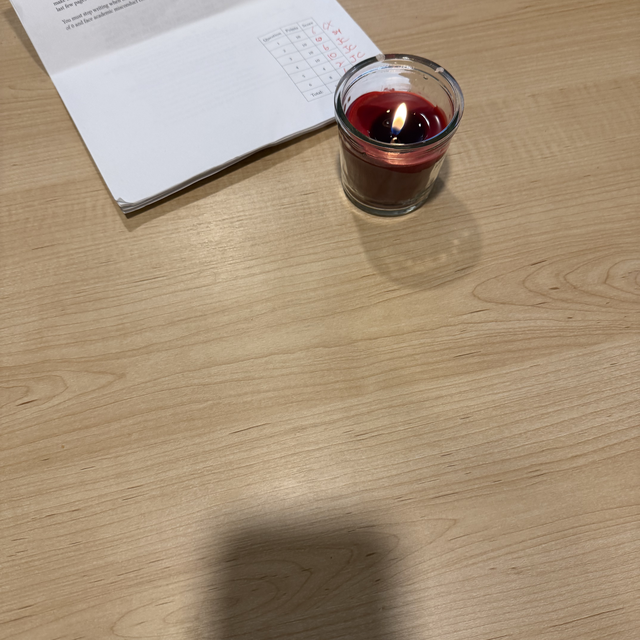Candle: (337, 55, 466, 222)
Paper: (6, 0, 395, 245)
